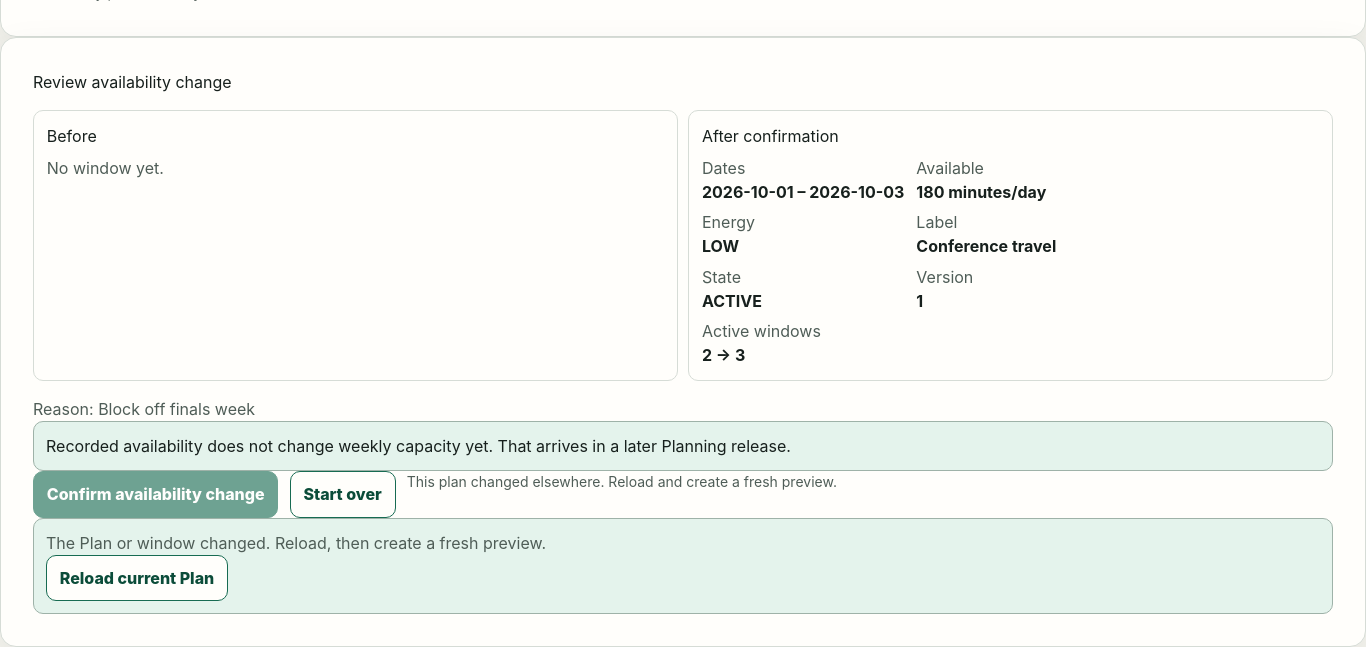
it: AvailabilityWindows › shows the conflict reload control and clears the confirmation
The width and height of the screenshot is (1366, 647).
(page scrolled)
Check: the text "The Plan or window changed" is shown, box [46,533,546,553]
Click the button "Reload current Plan": point(137, 578) [46,555,228,601]
(page scrolled)
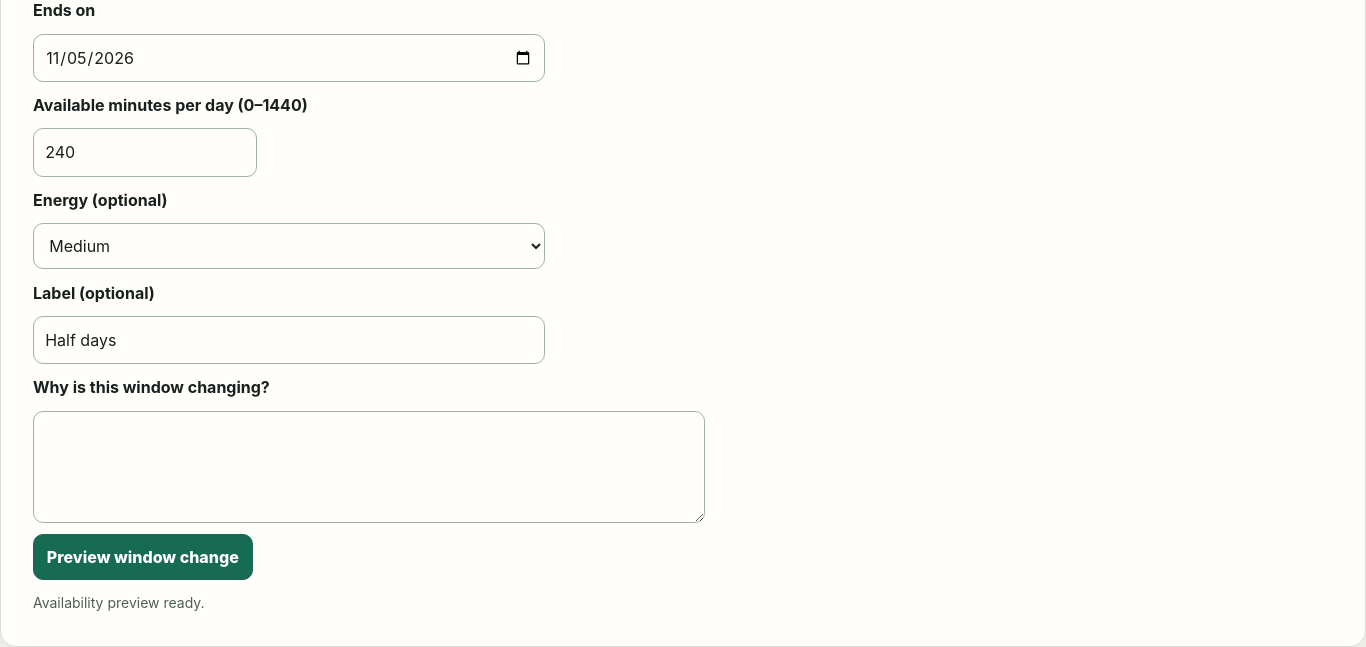
Check: the button "Confirm availability change" is gone
